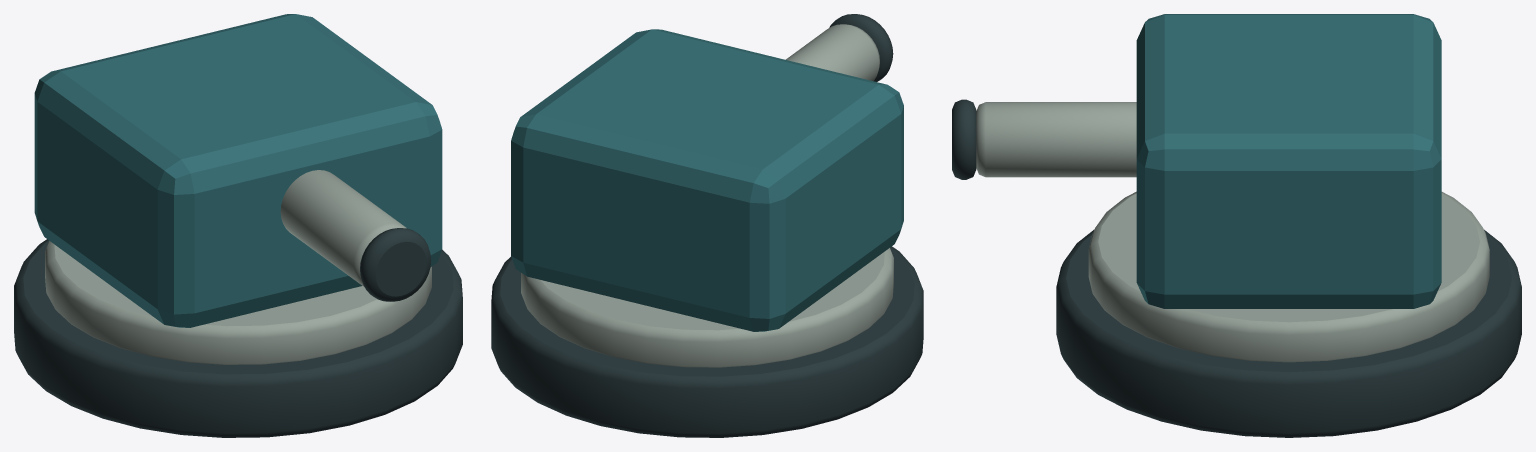
Rendered from battlecity-turret-item.glb.
3 renders of one model, left to right at view 1: azimuth 30°, elevation 25°; view 2: azimuth 150°, elevation 25°; view 3: azimuth 270°, elevation 25°, orthographic. The views are drawn at different scales.
Visible parts, largest first — view 1: DX teal armour, DX dark machinery, Brushed steel; view 2: DX teal armour, DX dark machinery, Brushed steel; view 3: DX teal armour, DX dark machinery, Brushed steel.
Boxes of the visible parts, x1,y1,x2,y2 form: DX teal armour: (34, 14, 442, 327); DX dark machinery: (14, 228, 462, 437); Brushed steel: (45, 170, 431, 364); DX teal armour: (511, 29, 903, 331); DX dark machinery: (491, 14, 923, 437); Brushed steel: (521, 24, 893, 367); DX teal armour: (1136, 14, 1441, 308); DX dark machinery: (952, 99, 1521, 437); Brushed steel: (976, 102, 1489, 362).
Bounding box in the file's own units: 0.58 × 0.37 × 0.71.
